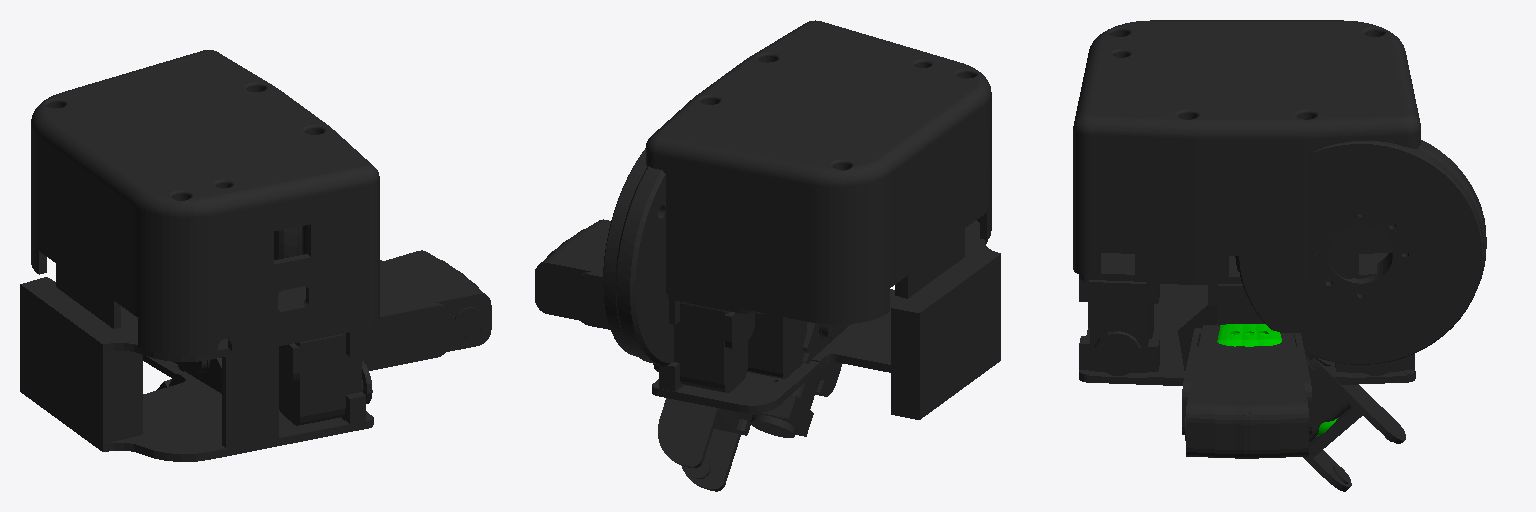
--- Render facts (derived) ---
The picture shows the robot from 3 angles, left to right: view 1: azimuth 30°, elevation 25°; view 2: azimuth 150°, elevation 25°; view 3: azimuth 270°, elevation 25°; orthographic projection.
Model lbr4 with 36 links and 35 joints (16 revolute, 19 fixed), rooted at grasp_object, posed all joints at 0 but 1 set to mid-range because 0 is outside their limits (thumb_joint_0 = 0.9915).
Links seen in each view (by area): view 1: palm_link, ring_link_2, ring_link_1, thumb_link_0, allegro_mount, index_link_1, index_link_2; view 2: palm_link, allegro_mount, thumb_link_2, index_link_1, thumb_link_0; view 3: palm_link, allegro_mount, index_link_1, ring_link_1, middle_link_1, thumb_link_2, thumb_link_3, middle_link_2, ring_link_2, thumb_link_0.
Link boxes in pixels (x1,y1,x2,y2): palm_link: [20, 50, 379, 461]; ring_link_2: [362, 278, 463, 370]; ring_link_1: [376, 270, 491, 362]; thumb_link_0: [156, 358, 221, 393]; allegro_mount: [274, 226, 304, 259]; index_link_1: [380, 250, 463, 280]; index_link_2: [380, 258, 429, 297]; palm_link: [646, 20, 1000, 419]; allegro_mount: [603, 148, 673, 365]; thumb_link_2: [658, 398, 740, 491]; index_link_1: [535, 239, 609, 329]; thumb_link_0: [732, 322, 850, 437]; palm_link: [1073, 20, 1420, 385]; allegro_mount: [1235, 140, 1486, 364]; index_link_1: [1224, 333, 1311, 458]; ring_link_1: [1182, 325, 1268, 458]; middle_link_1: [1207, 353, 1286, 457]; thumb_link_2: [1303, 356, 1405, 491]; thumb_link_3: [1308, 363, 1366, 457]; middle_link_2: [1208, 339, 1286, 391]; ring_link_2: [1187, 333, 1260, 390]; thumb_link_0: [1178, 305, 1217, 370].
Size in the robot's own frame: 1.6 by 1.39 by 1.42 metres.
Meshes: 13 distinct files referenced, 22 mesh visuals loaded (11 binary STL); not drawn: 8 (reference not matched to a file when rendering).

URDF robot description (lbr4):
<?xml version="1.0" ?>
<!-- =================================================================================== -->
<!-- |    This document was autogenerated by xacro from allegro_virtual.robot.xacro    | -->
<!-- |    EDITING THIS FILE BY HAND IS NOT RECOMMENDED                                 | -->
<!-- =================================================================================== -->
<robot name="lbr4" xmlns:xacro="http://www.ros.org/wiki/xacro">
  <!-- ========================================================================================= -->
  <!-- removing control urdf for now -->
  <!--xacro:if value="$(arg control)">
    <xacro:include filename="$(find ll4ma_robots_description)/urdf/allegro_right/allegro_control.urdf.xacro"/>
  </xacro:if>
  <xacro:unless value="$(arg control)"-->
  <!-- ======================== BASE PARAMS ========================= -->
  <!-- ======================== FINGER PARAMS ======================== -->
  <!-- full height from joint to tip. when used,
       the radius of the finger tip sphere will be subtracted
       and one fixed link will be added for the tip. -->
  <!-- ========================= THUMB PARAMS ========================= -->
  <!-- ========================= LIMITS ========================= -->
  <!-- ============================================================================= -->
  <!-- BASE -->
  <material name="Black">
    <color rgba="0.2 0.2 0.2 1"/>
  </material>
  <material name="Grey">
    <color rgba="0.2 0.2 0.2 1"/>
  </material>
  <material name="White">
    <color rgba="1 1 1 1"/>
  </material>
  <link name="allegro_mount">
    <inertial>
      <mass value="0.05"/>
      <origin rpy="0 0 0" xyz="0 0 0"/>
      <inertia ixx="1e-4" ixy="0" ixz="0" iyy="1e-4" iyz="0" izz="1e-4"/>
    </inertial>
    <visual>
      <origin rpy="0 0 0" xyz="-0.0 -0.0425 -0.0425"/>
      <geometry>
        <mesh filename="../models/allegro_model/allegro_mount.stl"/>
      </geometry>
      <material name="Grey"/>
    </visual>
    <collision>
      <origin rpy="0 0 0" xyz="-0.0 -0.0425 -0.0425"/>
      <geometry>
        <mesh filename="../models/allegro_model/allegro_mount.stl"/>
      </geometry>
    </collision>
  </link>
  <joint name="allegro_mount_joint" type="fixed">
    <origin rpy="0 1.5708 0" xyz="0.108 0 -0.008"/>
    <parent link="allegro_mount"/>
    <child link="palm_link"/>
  </joint>
  <gazebo reference="allegro_mount">
    <material>Gazebo/Grey</material>
  </gazebo>
  <link name="palm_link">
    <inertial>
      <mass value="0.4154"/>
      <origin rpy="0 0 0" xyz="0 0 0"/>
      <inertia ixx="1e-4" ixy="0" ixz="0" iyy="1e-4" iyz="0" izz="1e-4"/>
    </inertial>
    <visual>
      <geometry>
        <mesh filename="../models/allegro_model/base_link_biotac.stl"/>
      </geometry>
      <origin rpy="0 0 0" xyz="0 0 0 "/>
      <material name="Black"/>
    </visual>
    <collision>
      <geometry>
        <mesh filename="../models/allegro_model/collision/base_link_biotac.stl"/>
      </geometry>
      <origin rpy="0 0 0" xyz="0 0 0 "/>
    </collision>
  </link>
  <gazebo reference="palm_link">
    <material value="Gazebo/Black"/>
  </gazebo>
  <!-- ============================================================================= -->
  <!-- FINGERS -->
  <!-- RIGHT HAND due to which finger is number 0 -->
  <!-- for LEFT HAND switch the sign of the **offset_origin_y** and **finger_angle_r** parameters-->
  <!-- [LINK 0, 4, 8] -->
  <link name="index_link_0">
    <visual>
      <geometry>
        <mesh filename="../models/allegro_model/link_0.0.stl"/>
      </geometry>
      <material name="Black"/>
    </visual>
    <collision>
      <geometry>
        <mesh filename="../models/allegro_model/collision/link_0.0.stl"/>
      </geometry>
    </collision>
    <inertial>
      <mass value="0.0119"/>
      <origin rpy="0 0 0" xyz="0 0 0"/>
      <inertia ixx="1.01666658333e-06" ixy="0.0" ixz="0.0" iyy="6.47677333333e-07" iyz="0.0" izz="1.01666658333e-06"/>
    </inertial>
  </link>
  <gazebo reference="index_link_0">
    <material value="Gazebo/Black"/>
  </gazebo>
  <joint name="index_joint_0" type="revolute">
    <axis xyz="0 0 1"/>
    <limit effort="15" lower="-0.59" upper="0.57" velocity="7"/>
    <parent link="palm_link"/>
    <child link="index_link_0"/>
    <origin rpy="-0.08726646255 0 0" xyz="0 0.0435 -0.001542"/>
    <dynamics damping="1" friction="0"/>
  </joint>
  <!-- [LINK 1, 5, 9] -->
  <link name="index_link_1">
    <visual>
      <geometry>
        <mesh filename="../models/allegro_model/link_1.0.stl"/>
      </geometry>
      <material name="Black"/>
    </visual>
    <collision>
      <geometry>
        <mesh filename="../models/allegro_model/collision/link_1.0.stl"/>
      </geometry>
      <!--geometry>
        <box size="0.0196 0.0275 0.054"/>
      </geometry>
      <origin rpy="0 0 0" xyz="0 0 0.027"/-->
    </collision>
    <inertial>
      <mass value="0.065"/>
      <origin rpy="0 0 0" xyz="0 0 0"/>
      <inertia ixx="7.95654166667e-05" ixy="1.7199e-05" ixz="8.75875e-06" iyy="2.47088833333e-05" iyz="2.413125e-05" izz="7.95654166667e-05"/>
    </inertial>
  </link>
  <gazebo reference="index_link_1">
    <material value="Gazebo/Black"/>
  </gazebo>
  <joint name="index_joint_1" type="revolute">
    <limit effort="15" lower="-0.296" upper="1.71" velocity="7"/>
    <axis xyz="0 1 0"/>
    <parent link="index_link_0"/>
    <child link="index_link_1"/>
    <origin xyz="0 0 0.0164"/>
    <dynamics damping="1" friction="0"/>
  </joint>
  <!-- [LINK 2, 6, 10]-->
  <link name="index_link_2">
    <visual>
      <geometry>
        <mesh filename="../models/allegro_model/link_2.0.stl"/>
      </geometry>
      <material name="Black"/>
    </visual>
    <collision>
      <geometry>
        <mesh filename="../models/allegro_model/collision/link_2.0.stl"/>
      </geometry>
      <!--geometry>
        <box size="0.0196 0.0275 0.0384"/>
      </geometry>
      <origin rpy="0 0 0" xyz="0 0 0.0192"/-->
    </collision>
    <inertial>
      <mass value="0.0355"/>
      <origin rpy="0 0 0" xyz="0 0 0"/>
      <inertia ixx="2.63979183333e-05" ixy="6.67968e-06" ixz="4.783625e-06" iyy="1.34948516667e-05" iyz="9.372e-06" izz="2.63979183333e-05"/>
    </inertial>
  </link>
  <gazebo reference="index_link_2">
    <material value="Gazebo/Black"/>
  </gazebo>
  <joint name="index_joint_2" type="revolute">
    <axis xyz="0 1 0"/>
    <limit effort="15" lower="-0.274" upper="1.809" velocity="7"/>
    <parent link="index_link_1"/>
    <child link="index_link_2"/>
    <origin xyz="0 0 0.054"/>
    <dynamics damping="1" friction="0"/>
  </joint>
  <!-- [LINK 3, 7, 11] -->
  <link name="index_link_3">
    <visual>
      <geometry>
        <mesh filename="../models/allegro_model/link_3.0.stl"/>
      </geometry>
      <material name="Black"/>
    </visual>
    <collision>
      <geometry>
        <mesh filename="../models/allegro_model/collision/link_3.0.stl"/>
      </geometry>
      <!--geometry>
        <box size="0.0196 0.0275 0.0267"/>
      </geometry-->
      <!--origin rpy="0 0 0" xyz="0 0 0.01335"/-->
    </collision>
    <inertial>
      <mass value="0.0096"/>
      <origin rpy="0 0 0" xyz="0 0 0"/>
      <inertia ixx="4.701248e-06" ixy="1.255968e-06" ixz="1.2936e-06" iyy="3.649312e-06" iyz="1.7622e-06" izz="4.701248e-06"/>
    </inertial>
  </link>
  <gazebo reference="index_link_3">
    <material value="Gazebo/Black"/>
  </gazebo>
  <joint name="index_joint_3" type="revolute">
    <axis xyz="0 1 0"/>
    <limit effort="15" lower="-0.327" upper="1.718" velocity="7"/>
    <parent link="index_link_2"/>
    <child link="index_link_3"/>
    <origin xyz="0 0 0.0384"/>
    <dynamics damping="10" friction="0"/>
  </joint>
  <!-- [LINK 0, 4, 8] -->
  <link name="middle_link_0">
    <visual>
      <geometry>
        <mesh filename="../models/allegro_model/link_0.0.stl"/>
      </geometry>
      <material name="Black"/>
    </visual>
    <collision>
      <geometry>
        <mesh filename="../models/allegro_model/collision/link_0.0.stl"/>
      </geometry>
      <!--geometry>
        <box size="0.0196 0.0275 0.0164"/>
      </geometry>
      <origin rpy="0 0 0" xyz="0 0 0.0082"/-->
    </collision>
    <inertial>
      <mass value="0.0119"/>
      <origin rpy="0 0 0" xyz="0 0 0"/>
      <inertia ixx="1.01666658333e-06" ixy="0.0" ixz="0.0" iyy="6.47677333333e-07" iyz="0.0" izz="1.01666658333e-06"/>
    </inertial>
  </link>
  <gazebo reference="middle_link_0">
    <material value="Gazebo/Black"/>
  </gazebo>
  <joint name="middle_joint_0" type="revolute">
    <axis xyz="0 0 1"/>
    <limit effort="15" lower="-0.59" upper="0.57" velocity="7"/>
    <parent link="palm_link"/>
    <child link="middle_link_0"/>
    <origin rpy="0.0 0 0" xyz="0 0 0.0007"/>
    <dynamics damping="1" friction="0"/>
  </joint>
  <!-- [LINK 1, 5, 9] -->
  <link name="middle_link_1">
    <visual>
      <geometry>
        <mesh filename="../models/allegro_model/link_1.0.stl"/>
      </geometry>
      <material name="Black"/>
    </visual>
    <collision>
      <geometry>
        <mesh filename="../models/allegro_model/collision/link_1.0.stl"/>
      </geometry>
      <!--geometry>
        <box size="0.0196 0.0275 0.054"/>
      </geometry>
      <origin rpy="0 0 0" xyz="0 0 0.027"/-->
    </collision>
    <inertial>
      <mass value="0.065"/>
      <origin rpy="0 0 0" xyz="0 0 0"/>
      <inertia ixx="7.95654166667e-05" ixy="1.7199e-05" ixz="8.75875e-06" iyy="2.47088833333e-05" iyz="2.413125e-05" izz="7.95654166667e-05"/>
    </inertial>
  </link>
  <gazebo reference="middle_link_1">
    <material value="Gazebo/Black"/>
  </gazebo>
  <joint name="middle_joint_1" type="revolute">
    <limit effort="15" lower="-0.296" upper="1.71" velocity="7"/>
    <axis xyz="0 1 0"/>
    <parent link="middle_link_0"/>
    <child link="middle_link_1"/>
    <origin xyz="0 0 0.0164"/>
    <dynamics damping="1" friction="0"/>
  </joint>
  <!-- [LINK 2, 6, 10]-->
  <link name="middle_link_2">
    <visual>
      <geometry>
        <mesh filename="../models/allegro_model/link_2.0.stl"/>
      </geometry>
      <material name="Black"/>
    </visual>
    <collision>
      <geometry>
        <mesh filename="../models/allegro_model/collision/link_2.0.stl"/>
      </geometry>
      <!--geometry>
        <box size="0.0196 0.0275 0.0384"/>
      </geometry>
      <origin rpy="0 0 0" xyz="0 0 0.0192"/-->
    </collision>
    <inertial>
      <mass value="0.0355"/>
      <origin rpy="0 0 0" xyz="0 0 0"/>
      <inertia ixx="2.63979183333e-05" ixy="6.67968e-06" ixz="4.783625e-06" iyy="1.34948516667e-05" iyz="9.372e-06" izz="2.63979183333e-05"/>
    </inertial>
  </link>
  <gazebo reference="middle_link_2">
    <material value="Gazebo/Black"/>
  </gazebo>
  <joint name="middle_joint_2" type="revolute">
    <axis xyz="0 1 0"/>
    <limit effort="15" lower="-0.274" upper="1.809" velocity="7"/>
    <parent link="middle_link_1"/>
    <child link="middle_link_2"/>
    <origin xyz="0 0 0.054"/>
    <dynamics damping="1" friction="0"/>
  </joint>
  <!-- [LINK 3, 7, 11] -->
  <link name="middle_link_3">
    <visual>
      <geometry>
        <mesh filename="../models/allegro_model/link_3.0.stl"/>
      </geometry>
      <material name="Black"/>
    </visual>
    <collision>
      <geometry>
        <mesh filename="../models/allegro_model/collision/link_3.0.stl"/>
      </geometry>
      <!--geometry>
        <box size="0.0196 0.0275 0.0267"/>
      </geometry>
      <origin rpy="0 0 0" xyz="0 0 0.01335"/-->
    </collision>
    <inertial>
      <mass value="0.0096"/>
      <origin rpy="0 0 0" xyz="0 0 0"/>
      <inertia ixx="4.701248e-06" ixy="1.255968e-06" ixz="1.2936e-06" iyy="3.649312e-06" iyz="1.7622e-06" izz="4.701248e-06"/>
    </inertial>
  </link>
  <gazebo reference="middle_link_3">
    <material value="Gazebo/Black"/>
  </gazebo>
  <joint name="middle_joint_3" type="revolute">
    <axis xyz="0 1 0"/>
    <limit effort="15" lower="-0.327" upper="1.718" velocity="7"/>
    <parent link="middle_link_2"/>
    <child link="middle_link_3"/>
    <origin xyz="0 0 0.0384"/>
    <dynamics damping="10" friction="0"/>
  </joint>
  <!-- [LINK 0, 4, 8] -->
  <link name="ring_link_0">
    <visual>
      <geometry>
        <mesh filename="../models/allegro_model/link_0.0.stl"/>
      </geometry>
      <material name="Black"/>
    </visual>
    <collision>
      <geometry>
        <mesh filename="../models/allegro_model/collision/link_0.0.stl"/>
      </geometry>
      <!--geometry>
        <box size="0.0196 0.0275 0.0164"/>
      </geometry>
      <origin rpy="0 0 0" xyz="0 0 0.0082"/-->
    </collision>
    <inertial>
      <mass value="0.0119"/>
      <origin rpy="0 0 0" xyz="0 0 0"/>
      <inertia ixx="1.01666658333e-06" ixy="0.0" ixz="0.0" iyy="6.47677333333e-07" iyz="0.0" izz="1.01666658333e-06"/>
    </inertial>
  </link>
  <gazebo reference="ring_link_0">
    <material value="Gazebo/Black"/>
  </gazebo>
  <joint name="ring_joint_0" type="revolute">
    <axis xyz="0 0 1"/>
    <limit effort="15" lower="-0.59" upper="0.57" velocity="7"/>
    <parent link="palm_link"/>
    <child link="ring_link_0"/>
    <origin rpy="0.08726646255 0 0" xyz="0 -0.0435 -0.001542"/>
    <dynamics damping="1" friction="0"/>
  </joint>
  <!-- [LINK 1, 5, 9] -->
  <link name="ring_link_1">
    <visual>
      <geometry>
        <mesh filename="../models/allegro_model/link_1.0.stl"/>
      </geometry>
      <material name="Black"/>
    </visual>
    <collision>
      <geometry>
        <mesh filename="../models/allegro_model/collision/link_1.0.stl"/>
      </geometry>
      <!--geometry>
        <box size="0.0196 0.0275 0.054"/>
      </geometry>
      <origin rpy="0 0 0" xyz="0 0 0.027"/-->
    </collision>
    <inertial>
      <mass value="0.065"/>
      <origin rpy="0 0 0" xyz="0 0 0"/>
      <inertia ixx="7.95654166667e-05" ixy="1.7199e-05" ixz="8.75875e-06" iyy="2.47088833333e-05" iyz="2.413125e-05" izz="7.95654166667e-05"/>
    </inertial>
  </link>
  <gazebo reference="ring_link_1">
    <material value="Gazebo/Black"/>
  </gazebo>
  <joint name="ring_joint_1" type="revolute">
    <limit effort="15" lower="-0.296" upper="1.71" velocity="7"/>
    <axis xyz="0 1 0"/>
    <parent link="ring_link_0"/>
    <child link="ring_link_1"/>
    <origin xyz="0 0 0.0164"/>
    <dynamics damping="1" friction="0"/>
  </joint>
  <!-- [LINK 2, 6, 10]-->
  <link name="ring_link_2">
    <visual>
      <geometry>
        <mesh filename="../models/allegro_model/link_2.0.stl"/>
      </geometry>
      <material name="Black"/>
    </visual>
    <collision>
      <geometry>
        <mesh filename="../models/allegro_model/collision/link_2.0.stl"/>
      </geometry>
      <!--geometry>
        <box size="0.0196 0.0275 0.0384"/>
      </geometry>
      <origin rpy="0 0 0" xyz="0 0 0.0192"/-->
    </collision>
    <inertial>
      <mass value="0.0355"/>
      <origin rpy="0 0 0" xyz="0 0 0"/>
      <inertia ixx="2.63979183333e-05" ixy="6.67968e-06" ixz="4.783625e-06" iyy="1.34948516667e-05" iyz="9.372e-06" izz="2.63979183333e-05"/>
    </inertial>
  </link>
  <gazebo reference="ring_link_2">
    <material value="Gazebo/Black"/>
  </gazebo>
  <joint name="ring_joint_2" type="revolute">
    <axis xyz="0 1 0"/>
    <limit effort="15" lower="-0.274" upper="1.809" velocity="7"/>
    <parent link="ring_link_1"/>
    <child link="ring_link_2"/>
    <origin xyz="0 0 0.054"/>
    <dynamics damping="1" friction="0"/>
  </joint>
  <!-- [LINK 3, 7, 11] -->
  <link name="ring_link_3">
    <visual>
      <geometry>
        <mesh filename="../models/allegro_model/link_3.0.stl"/>
      </geometry>
      <material name="Black"/>
    </visual>
    <collision>
      <geometry>
        <mesh filename="../models/allegro_model/collision/link_3.0.stl"/>
      </geometry>
      <!--geometry>

        <box size="0.0196 0.0275 0.0267"/>
      </geometry>
      <origin rpy="0 0 0" xyz="0 0 0.01335"/-->
    </collision>
    <inertial>
      <mass value="0.0096"/>
      <origin rpy="0 0 0" xyz="0 0 0"/>
      <inertia ixx="4.701248e-06" ixy="1.255968e-06" ixz="1.2936e-06" iyy="3.649312e-06" iyz="1.7622e-06" izz="4.701248e-06"/>
    </inertial>
  </link>
  <gazebo reference="ring_link_3">
    <material value="Gazebo/Black"/>
  </gazebo>
  <joint name="ring_joint_3" type="revolute">
    <axis xyz="0 1 0"/>
    <limit effort="15" lower="-0.327" upper="1.718" velocity="7"/>
    <parent link="ring_link_2"/>
    <child link="ring_link_3"/>
    <origin xyz="0 0 0.0384"/>
    <dynamics damping="10" friction="0"/>
  </joint>
  <!-- THUMB -->
  <!-- [LINK 12] -->
  <link name="thumb_link_0">
    <visual>
      <geometry>
        <mesh filename="../models/allegro_model/link_12.0_right.stl"/>
      </geometry>
      <material name="Black"/>
    </visual>
    <collision>
      <geometry>
        <mesh filename="../models/allegro_model/collision/link_12.0_right.stl"/>
      </geometry>
      <!--geometry>
        <box size="0.0358 0.034 0.0455"/>
      </geometry>
      <origin rpy="0 0 0" xyz="-0.0179 0.009 0.0145"/-->
    </collision>
    <inertial>
      <mass value="0.0176"/>
      <origin rpy="0 0 0" xyz="0 0 0"/>
      <inertia ixx="1.89273333333e-5" ixy="7.16716e-06" ixz="5.35568e-06" iyy="1.43008213333e-05" iyz="6.8068e-06" izz="1.89273333333e-05"/>
    </inertial>
  </link>
  <gazebo reference="thumb_link_0">
    <material value="Gazebo/Black"/>
  </gazebo>
  <joint name="thumb_joint_0" type="revolute">
    <axis xyz="-1 0 0"/>
    <limit effort="15" lower="0.363" upper="1.62" velocity="7"/>
    <parent link="palm_link"/>
    <child link="thumb_link_0"/>
    <!--origin rpy="0 -1.65806278845 -1.5707963259" xyz="-0.0182 0.019333 -0.045987"/-->
    <origin rpy="0 -1.65806278845 -1.417963259" xyz="-0.0182 0.022333 -0.045987"/>
    <dynamics damping="1" friction="0"/>
  </joint>
  <!-- [LINK 13] -->
  <link name="thumb_link_1">
    <visual>
      <geometry>
        <mesh filename="../models/allegro_model/link_13.0.stl"/>
      </geometry>
      <material name="Black"/>
    </visual>
    <collision>
      <geometry>
        <mesh filename="../models/allegro_model/collision/link_13.0.stl"/>
      </geometry>
      <!--geometry>
        <box size="0.0196 0.0275 0.0177"/>
      </geometry>
      <origin rpy="0 0 0" xyz="0 0 0.00885"/-->
    </collision>
    <inertial>
      <mass value="0.0119"/>
      <origin rpy="0 0 0" xyz="0 0 0"/>
      <inertia ixx="4.24250866667e-06" ixy="1.032087e-06" ixz="1.603525e-06" iyy="4.52362633333e-06" iyz="1.44808125e-06" izz="4.24250866667e-06"/>
    </inertial>
  </link>
  <gazebo reference="thumb_link_1">
    <material value="Gazebo/Black"/>
  </gazebo>
  <joint name="thumb_joint_1" type="revolute">
    <axis xyz="0 0 1"/>
    <limit effort="15" lower="-0.205" upper="1.263" velocity="7"/>
    <parent link="thumb_link_0"/>
    <child link="thumb_link_1"/>
    <origin xyz="-0.027 0.005 0.0399"/>
    <dynamics damping="1" friction="0"/>
  </joint>
  <!-- [LINK 14] -->
  <link name="thumb_link_2">
    <visual>
      <geometry>
        <mesh filename="../models/allegro_model/link_14.0.stl"/>
      </geometry>
      <material name="Black">
      </material>
    </visual>
    <collision>
      <geometry>
        <mesh filename="../models/allegro_model/collision/link_14.0.stl"/>
      </geometry>
      <!--geometry>
        <box size="0.0196 0.0275 0.0514"/>
      </geometry>
      <origin rpy="0 0 0" xyz="0 0 0.0257"/-->
    </collision>
    <inertial>
      <mass value="0.038"/>
      <origin rpy="0 0 0" xyz="0 0 0"/>
      <inertia ixx="4.30439933333e-05" ixy="9.57068e-06" ixz="5.1205e-06" iyy="1.44451933333e-05" iyz="1.342825e-05" izz="4.30439933333e-05"/>
    </inertial>
  </link>
  <gazebo reference="thumb_link_2">
    <material value="Gazebo/Black"/>
  </gazebo>
  <joint name="thumb_joint_2" type="revolute">
    <axis xyz="0 1 0"/>
    <limit effort="15" lower="-0.289" upper="1.744" velocity="7"/>
    <parent link="thumb_link_1"/>
    <child link="thumb_link_2"/>
    <origin xyz="0 0 0.0177"/>
    <dynamics damping="1" friction="0"/>
  </joint>
  <!-- [LINK 15] -->
  <link name="thumb_link_3">
    <visual>
      <geometry>
        <mesh filename="../models/allegro_model/link_15.0.stl"/>
      </geometry>
      <material name="Black">
      </material>
      <origin rpy="0 0 0" xyz="0 0 0.00"/>
    </visual>
    <collision>
      <geometry>
        <mesh filename="../models/allegro_model/collision/link_15.0.stl"/>
      </geometry>
      <origin rpy="0 0 0" xyz="0 0 -0.0"/>
      <!--geometry>
        <box size="0.0196 0.0275 0.0423"/>
      </geometry>
      <origin rpy="0 0 0" xyz="0 0 0.02115"/-->
    </collision>
    <inertial>
      <mass value="0.0388"/>
      <origin rpy="0 0 0" xyz="0 0 0"/>
      <inertia ixx="3.29223173333e-05" ixy="8.042076e-06" ixz="5.2283e-06" iyy="1.47493026667e-5" iyz="1.1283525e-5" izz="3.29223173333e-05"/>
    </inertial>
  </link>
  <gazebo reference="thumb_link_3">
    <material value="Gazebo/Black"/>
  </gazebo>
  <joint name="thumb_joint_3" type="revolute">
    <axis xyz="0 1 0"/>
    <limit effort="15" lower="-0.262" upper="1.819" velocity="7"/>
    <parent link="thumb_link_2"/>
    <child link="thumb_link_3"/>
    <origin xyz="0 0 0.051"/>
    <dynamics damping="1" friction="0"/>
  </joint>
  <link name="thumb_link_3_offset">
    <inertial>
      <mass value="0.00001"/>
      <origin rpy="0 0 0" xyz="0 0 0"/>
      <inertia ixx="9.68e-07" ixy="0" ixz="0" iyy="9.68e-07" iyz="0" izz="9.68e-07"/>
    </inertial>
  </link>
  <joint name="thumb_end_link_3" type="fixed">
    <parent link="thumb_link_3"/>
    <child link="thumb_link_3_offset"/>
    <origin xyz="0 0 0.015"/>
  </joint>
  <!-- ============================================================================= -->
  <!-- THUMB MACRO -->
  <!-- END THUMB MACRO -->
  <!-- THREE FINGER MACRO -->
  <!-- [[END]] THREE FINGER MACRO -->
  <klampt freeze_root_link="1" package_root="../" use_vis_geom="1">
    <link name="index_link_0" servoD="15" servoI="0" servoP="600"/>
    <link name="index_link_1" servoD="20" servoI="0" servoP="600"/>
    <link name="index_link_2" servoD="15" servoI="0" servoP="600"/>
    <link name="index_link_3" servoD="15" servoI="0" servoP="1000"/>
    <link name="middle_link_0" servoD="15" servoI="0" servoP="600"/>
    <link name="middle_link_1" servoD="20" servoI="0" servoP="600"/>
    <link name="middle_link_2" servoD="15" servoI="0" servoP="600"/>
    <link name="middle_link_3" servoD="15" servoI="0" servoP="1000"/>
    <link name="ring_link_0" servoD="15" servoI="0" servoP="600"/>
    <link name="ring_link_1" servoD="20" servoI="0" servoP="600"/>
    <link name="ring_link_2" servoD="15" servoI="0" servoP="600"/>
    <link name="ring_link_3" servoD="15" servoI="0" servoP="1000"/>
    <link name="thumb_link_0" servoD="30" servoI="0" servoP="1000"/>
    <link name="thumb_link_1" servoD="20" servoI="0" servoP="1000"/>
    <link name="thumb_link_2" servoD="20" servoI="0" servoP="1000"/>
    <link name="thumb_link_3" servoD="15" servoI="0" servoP="1000"/>
  </klampt>
  <link name="index_tip">
    <visual>
      <!--origin rpy="0.1 0 1.57" xyz="0.0102 -0.01  -0.055" /-->
      <origin rpy="0.0 1.57 1.57" xyz="-0.00277 0.0  -0.00545"/>
      <geometry>
        <mesh filename="../models/allegro_model/biotac/base_visual.stl"/>
      </geometry>
      <material name="Grey">
        <color rgba="0.2 0.2 0.2 1"/>
      </material>
    </visual>
    <collision>
      <origin rpy="0.0 1.57 1.57" xyz="-0.00277 0.0  -0.00545"/>
      <geometry>
        <mesh filename="../models/allegro_model/biotac/base_collision.stl"/>
      </geometry>
    </collision>
    <inertial>
      <mass value="0.021"/>
      <origin rpy="0 0 0" xyz="0 0 0"/>
      <inertia ixx="9.68e-07" ixy="0" ixz="0" iyy="9.68e-07" iyz="0" izz="9.68e-07"/>
    </inertial>
  </link>
  <joint name="index_tip_joint" type="fixed">
    <parent link="index_link_3"/>
    <child link="index_tip"/>
    <origin rpy="0 0 0" xyz="0.008 0.0 0.04"/>
  </joint>
  <link name="index_biotac_nail">
    <visual>
      <origin rpy="0 0 0.0" xyz="0.00 -0.00  -0.0"/>
      <geometry>
        <mesh filename="../models/allegro_model/biotac/nail_visual.stl"/>
      </geometry>
      <material name="White">
        <color rgba="1 1 1 1"/>
      </material>
    </visual>
    <collision>
      <origin rpy="0 0 0.0" xyz="0.00 -0.00  -0.0"/>
      <geometry>
        <mesh filename="../models/allegro_model/biotac/nail_collision.stl"/>
      </geometry>
      <material name="White">
        <color rgba="1.0 1.0 1.0 1"/>
      </material>
    </collision>
    <inertial>
      <mass value="0.00001"/>
      <origin rpy="0 0 0" xyz="0 0 0"/>
      <inertia ixx="9.68e-07" ixy="0" ixz="0" iyy="9.68e-07" iyz="0" izz="9.68e-07"/>
    </inertial>
  </link>
  <joint name="index_biotac_nail_joint" type="fixed">
    <origin rpy="-1.57 1.57 0" xyz="-0.0022 0.0 -0.0055"/>
    <!--axis xyz="0 0 1"/-->
    <parent link="index_tip"/>
    <child link="index_biotac_nail"/>
  </joint>
  <link name="index_biotac_tip">
    <visual>
      <origin rpy="1.57 0.351 3.141" xyz="-0.021 -0.002  -0.004"/>
      <geometry>
        <mesh filename="../models/allegro_model/biotac/contact_visual.stl"/>
      </geometry>
      <material name="Green">
        <color rgba="0.0 0.8 .0 1"/>
      </material>
    </visual>
    <collision>
      <origin rpy="1.57 0.351 3.141" xyz="-0.021 -0.002  -0.004"/>
      <geometry>
        <mesh filename="../models/allegro_model/biotac/contact_collision_small.stl"/>
      </geometry>
      <material name="Green">
        <color rgba="0.0 0.8 .0 1"/>
      </material>
    </collision>
    <inertial>
      <mass value="0.00001"/>
      <origin rpy="0 0 0" xyz="0 0 0"/>
      <inertia ixx="9.68e-07" ixy="0" ixz="0" iyy="9.68e-07" iyz="0" izz="9.68e-07"/>
    </inertial>
  </link>
  <joint name="index_biotac_joint" type="fixed">
    <origin rpy="1.57 0. -2.791" xyz="-0.021 -0.003 0.002"/>
    <!--axis xyz="0 0 1"/-->
    <parent link="index_biotac_nail"/>
    <child link="index_biotac_tip"/>
  </joint>
  <link name="index_biotac_origin">
    <inertial>
      <mass value="0.00001"/>
      <origin rpy="0 0 0" xyz="0 0 0"/>
      <inertia ixx="9.68e-07" ixy="0" ixz="0" iyy="9.68e-07" iyz="0" izz="9.68e-07"/>
    </inertial>
  </link>
  <joint name="index_tip_bt" type="fixed">
    <origin rpy="0.0 -1.22129414408 0.0" xyz="0.0005 0.00155 0.0155"/>
    <!--origin rpy="${0.0 * pi} ${-0.38875 * pi} ${0.0 * pi}" xyz="0.0005 0.00155 0.0155"/-->
    <parent link="index_tip"/>
    <child link="index_biotac_origin"/>
  </joint>
  <link name="middle_tip">
    <visual>
      <!--origin rpy="0.1 0 1.57" xyz="0.0102 -0.01  -0.055" /-->
      <origin rpy="0.0 1.57 1.57" xyz="-0.00277 0.0  -0.00545"/>
      <geometry>
        <mesh filename="../models/allegro_model/biotac/base_visual.stl"/>
      </geometry>
      <material name="Grey">
        <color rgba="0.2 0.2 0.2 1"/>
      </material>
    </visual>
    <collision>
      <origin rpy="0.0 1.57 1.57" xyz="-0.00277 0.0  -0.00545"/>
      <geometry>
        <mesh filename="../models/allegro_model/biotac/base_collision.stl"/>
      </geometry>
    </collision>
    <inertial>
      <mass value="0.021"/>
      <origin rpy="0 0 0" xyz="0 0 0"/>
      <inertia ixx="9.68e-07" ixy="0" ixz="0" iyy="9.68e-07" iyz="0" izz="9.68e-07"/>
    </inertial>
  </link>
  <joint name="middle_tip_joint" type="fixed">
    <parent link="middle_link_3"/>
    <child link="middle_tip"/>
    <origin rpy="0 0 0" xyz="0.008 0.0 0.04"/>
  </joint>
  <link name="middle_biotac_nail">
    <visual>
      <origin rpy="0 0 0.0" xyz="0.00 -0.00  -0.0"/>
      <geometry>
        <mesh filename="../models/allegro_model/biotac/nail_visual.stl"/>
      </geometry>
      <material name="White">
        <color rgba="1 1 1 1"/>
      </material>
    </visual>
    <collision>
      <origin rpy="0 0 0.0" xyz="0.00 -0.00  -0.0"/>
      <geometry>
        <mesh filename="../models/allegro_model/biotac/nail_collision.stl"/>
      </geometry>
      <material name="White">
        <color rgba="1.0 1.0 1.0 1"/>
      </material>
    </collision>
    <inertial>
      <mass value="0.00001"/>
      <origin rpy="0 0 0" xyz="0 0 0"/>
      <inertia ixx="9.68e-07" ixy="0" ixz="0" iyy="9.68e-07" iyz="0" izz="9.68e-07"/>
    </inertial>
  </link>
  <joint name="middle_biotac_nail_joint" type="fixed">
    <origin rpy="-1.57 1.57 0" xyz="-0.0022 0.0 -0.0055"/>
    <!--axis xyz="0 0 1"/-->
    <parent link="middle_tip"/>
    <child link="middle_biotac_nail"/>
  </joint>
  <link name="middle_biotac_tip">
    <visual>
      <origin rpy="1.57 0.351 3.141" xyz="-0.021 -0.002  -0.004"/>
      <geometry>
        <mesh filename="../models/allegro_model/biotac/contact_visual.stl"/>
      </geometry>
      <material name="Green">
        <color rgba="0.0 0.8 .0 1"/>
      </material>
    </visual>
    <collision>
      <origin rpy="1.57 0.351 3.141" xyz="-0.021 -0.002  -0.004"/>
      <geometry>
        <mesh filename="../models/allegro_model/biotac/contact_collision_small.stl"/>
      </geometry>
      <material name="Green">
        <color rgba="0.0 0.8 .0 1"/>
      </material>
    </collision>
    <inertial>
      <mass value="0.00001"/>
      <origin rpy="0 0 0" xyz="0 0 0"/>
      <inertia ixx="9.68e-07" ixy="0" ixz="0" iyy="9.68e-07" iyz="0" izz="9.68e-07"/>
    </inertial>
  </link>
  <joint name="middle_biotac_joint" type="fixed">
    <origin rpy="1.57 0. -2.791" xyz="-0.021 -0.003 0.002"/>
    <!--axis xyz="0 0 1"/-->
    <parent link="middle_biotac_nail"/>
    <child link="middle_biotac_tip"/>
  </joint>
  <link name="middle_biotac_origin">
    <inertial>
      <mass value="0.00001"/>
      <origin rpy="0 0 0" xyz="0 0 0"/>
      <inertia ixx="9.68e-07" ixy="0" ixz="0" iyy="9.68e-07" iyz="0" izz="9.68e-07"/>
    </inertial>
  </link>
  <joint name="middle_tip_bt" type="fixed">
    <origin rpy="0.0 -1.22129414408 0.0" xyz="0.0005 0.00155 0.0155"/>
    <!--origin rpy="${0.0 * pi} ${-0.38875 * pi} ${0.0 * pi}" xyz="0.0005 0.00155 0.0155"/-->
    <parent link="middle_tip"/>
    <child link="middle_biotac_origin"/>
  </joint>
  <link name="ring_tip">
    <visual>
      <!--origin rpy="0.1 0 1.57" xyz="0.0102 -0.01  -0.055" /-->
      <origin rpy="0.0 1.57 1.57" xyz="-0.00277 0.0  -0.00545"/>
      <geometry>
        <mesh filename="../models/allegro_model/biotac/base_visual.stl"/>
      </geometry>
      <material name="Grey">
        <color rgba="0.2 0.2 0.2 1"/>
      </material>
    </visual>
    <collision>
      <origin rpy="0.0 1.57 1.57" xyz="-0.00277 0.0  -0.00545"/>
      <geometry>
        <mesh filename="../models/allegro_model/biotac/base_collision.stl"/>
      </geometry>
    </collision>
    <inertial>
      <mass value="0.021"/>
      <origin rpy="0 0 0" xyz="0 0 0"/>
      <inertia ixx="9.68e-07" ixy="0" ixz="0" iyy="9.68e-07" iyz="0" izz="9.68e-07"/>
    </inertial>
  </link>
  <joint name="ring_tip_joint" type="fixed">
    <parent link="ring_link_3"/>
    <child link="ring_tip"/>
    <origin rpy="0 0 0" xyz="0.008 0.0 0.04"/>
  </joint>
  <link name="ring_biotac_nail">
    <visual>
      <origin rpy="0 0 0.0" xyz="0.00 -0.00  -0.0"/>
      <geometry>
        <mesh filename="../models/allegro_model/biotac/nail_visual.stl"/>
      </geometry>
      <material name="White">
        <color rgba="1 1 1 1"/>
      </material>
    </visual>
    <collision>
      <origin rpy="0 0 0.0" xyz="0.00 -0.00  -0.0"/>
      <geometry>
        <mesh filename="../models/allegro_model/biotac/nail_collision.stl"/>
      </geometry>
      <material name="White">
        <color rgba="1.0 1.0 1.0 1"/>
      </material>
    </collision>
    <inertial>
      <mass value="0.00001"/>
      <origin rpy="0 0 0" xyz="0 0 0"/>
      <inertia ixx="9.68e-07" ixy="0" ixz="0" iyy="9.68e-07" iyz="0" izz="9.68e-07"/>
    </inertial>
  </link>
  <joint name="ring_biotac_nail_joint" type="fixed">
    <origin rpy="-1.57 1.57 0" xyz="-0.0022 0.0 -0.0055"/>
    <!--axis xyz="0 0 1"/-->
    <parent link="ring_tip"/>
    <child link="ring_biotac_nail"/>
  </joint>
  <link name="ring_biotac_tip">
    <visual>
      <origin rpy="1.57 0.351 3.141" xyz="-0.021 -0.002  -0.004"/>
      <geometry>
        <mesh filename="../models/allegro_model/biotac/contact_visual.stl"/>
      </geometry>
      <material name="Green">
        <color rgba="0.0 0.8 .0 1"/>
      </material>
    </visual>
    <collision>
      <origin rpy="1.57 0.351 3.141" xyz="-0.021 -0.002  -0.004"/>
      <geometry>
        <mesh filename="../models/allegro_model/biotac/contact_collision_small.stl"/>
      </geometry>
      <material name="Green">
        <color rgba="0.0 0.8 .0 1"/>
      </material>
    </collision>
    <inertial>
      <mass value="0.00001"/>
      <origin rpy="0 0 0" xyz="0 0 0"/>
      <inertia ixx="9.68e-07" ixy="0" ixz="0" iyy="9.68e-07" iyz="0" izz="9.68e-07"/>
    </inertial>
  </link>
  <joint name="ring_biotac_joint" type="fixed">
    <origin rpy="1.57 0. -2.791" xyz="-0.021 -0.003 0.002"/>
    <!--axis xyz="0 0 1"/-->
    <parent link="ring_biotac_nail"/>
    <child link="ring_biotac_tip"/>
  </joint>
  <link name="ring_biotac_origin">
    <inertial>
      <mass value="0.00001"/>
      <origin rpy="0 0 0" xyz="0 0 0"/>
      <inertia ixx="9.68e-07" ixy="0" ixz="0" iyy="9.68e-07" iyz="0" izz="9.68e-07"/>
    </inertial>
  </link>
  <joint name="ring_tip_bt" type="fixed">
    <origin rpy="0.0 -1.22129414408 0.0" xyz="0.0005 0.00155 0.0155"/>
    <!--origin rpy="${0.0 * pi} ${-0.38875 * pi} ${0.0 * pi}" xyz="0.0005 0.00155 0.0155"/-->
    <parent link="ring_tip"/>
    <child link="ring_biotac_origin"/>
  </joint>
  <link name="thumb_tip">
    <visual>
      <!--origin rpy="0.1 0 1.57" xyz="0.0102 -0.01  -0.055" /-->
      <origin rpy="0.0 1.57 1.57" xyz="-0.00277 0.0  -0.00545"/>
      <geometry>
        <mesh filename="../models/allegro_model/biotac/base_visual.stl"/>
      </geometry>
      <material name="Grey">
        <color rgba="0.2 0.2 0.2 1"/>
      </material>
    </visual>
    <collision>
      <origin rpy="0.0 1.57 1.57" xyz="-0.00277 0.0  -0.00545"/>
      <geometry>
        <mesh filename="../models/allegro_model/biotac/base_collision.stl"/>
      </geometry>
    </collision>
    <inertial>
      <mass value="0.021"/>
      <origin rpy="0 0 0" xyz="0 0 0"/>
      <inertia ixx="9.68e-07" ixy="0" ixz="0" iyy="9.68e-07" iyz="0" izz="9.68e-07"/>
    </inertial>
  </link>
  <joint name="thumb_tip_joint" type="fixed">
    <parent link="thumb_link_3_offset"/>
    <child link="thumb_tip"/>
    <origin rpy="0 0 0" xyz="0.008 0.0 0.04"/>
  </joint>
  <link name="thumb_biotac_nail">
    <visual>
      <origin rpy="0 0 0.0" xyz="0.00 -0.00  -0.0"/>
      <geometry>
        <mesh filename="../models/allegro_model/biotac/nail_visual.stl"/>
      </geometry>
      <material name="White">
        <color rgba="1 1 1 1"/>
      </material>
    </visual>
    <collision>
      <origin rpy="0 0 0.0" xyz="0.00 -0.00  -0.0"/>
      <geometry>
        <mesh filename="../models/allegro_model/biotac/nail_collision.stl"/>
      </geometry>
      <material name="White">
        <color rgba="1.0 1.0 1.0 1"/>
      </material>
    </collision>
    <inertial>
      <mass value="0.00001"/>
      <origin rpy="0 0 0" xyz="0 0 0"/>
      <inertia ixx="9.68e-07" ixy="0" ixz="0" iyy="9.68e-07" iyz="0" izz="9.68e-07"/>
    </inertial>
  </link>
  <joint name="thumb_biotac_nail_joint" type="fixed">
    <origin rpy="-1.57 1.57 0" xyz="-0.0022 0.0 -0.0055"/>
    <!--axis xyz="0 0 1"/-->
    <parent link="thumb_tip"/>
    <child link="thumb_biotac_nail"/>
  </joint>
  <link name="thumb_biotac_tip">
    <visual>
      <origin rpy="1.57 0.351 3.141" xyz="-0.021 -0.002  -0.004"/>
      <geometry>
        <mesh filename="../models/allegro_model/biotac/contact_visual.stl"/>
      </geometry>
      <material name="Green">
        <color rgba="0.0 0.8 .0 1"/>
      </material>
    </visual>
    <collision>
      <origin rpy="1.57 0.351 3.141" xyz="-0.021 -0.002  -0.004"/>
      <geometry>
        <mesh filename="../models/allegro_model/biotac/contact_collision_small.stl"/>
      </geometry>
      <material name="Green">
        <color rgba="0.0 0.8 .0 1"/>
      </material>
    </collision>
    <inertial>
      <mass value="0.00001"/>
      <origin rpy="0 0 0" xyz="0 0 0"/>
      <inertia ixx="9.68e-07" ixy="0" ixz="0" iyy="9.68e-07" iyz="0" izz="9.68e-07"/>
    </inertial>
  </link>
  <joint name="thumb_biotac_joint" type="fixed">
    <origin rpy="1.57 0. -2.791" xyz="-0.021 -0.003 0.002"/>
    <!--axis xyz="0 0 1"/-->
    <parent link="thumb_biotac_nail"/>
    <child link="thumb_biotac_tip"/>
  </joint>
  <link name="thumb_biotac_origin">
    <inertial>
      <mass value="0.00001"/>
      <origin rpy="0 0 0" xyz="0 0 0"/>
      <inertia ixx="9.68e-07" ixy="0" ixz="0" iyy="9.68e-07" iyz="0" izz="9.68e-07"/>
    </inertial>
  </link>
  <joint name="thumb_tip_bt" type="fixed">
    <origin rpy="0.0 -1.22129414408 0.0" xyz="0.0005 0.00155 0.0155"/>
    <!--origin rpy="${0.0 * pi} ${-0.38875 * pi} ${0.0 * pi}" xyz="0.0005 0.00155 0.0155"/-->
    <parent link="thumb_tip"/>
    <child link="thumb_biotac_origin"/>
  </joint>
  <!--/xacro:unless-->
  <link name="grasp_object"/>
  <joint name="grasp_object_allegro" type="fixed">
    <parent link="grasp_object"/>
    <child link="allegro_mount"/>
    <origin rpy="0 0 0" xyz="0 0 0.01"/>
  </joint>
</robot>
